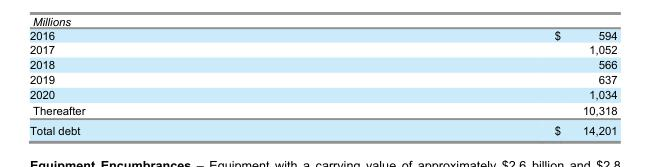table: (28, 28, 616, 135)
table column: (319, 28, 616, 135), (28, 28, 319, 135)
table row: (28, 102, 616, 119), (28, 86, 616, 102), (28, 119, 616, 135), (28, 41, 616, 56), (28, 56, 616, 71), (28, 71, 616, 86), (28, 28, 616, 41)
